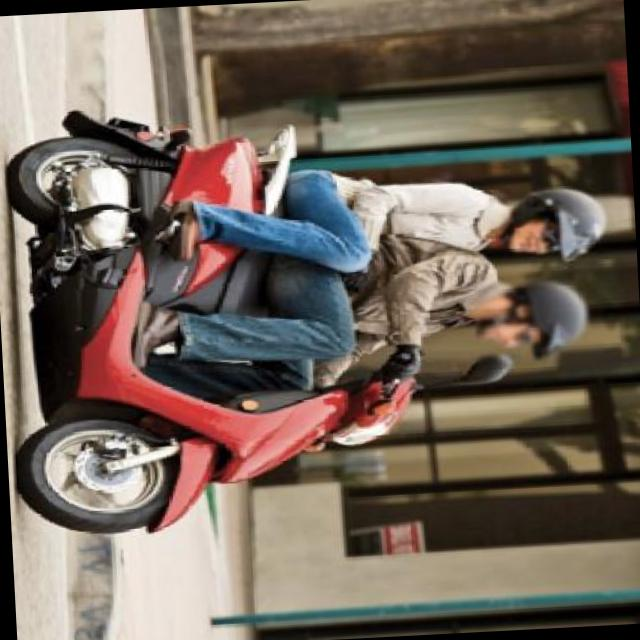With Helmet: (471, 275, 604, 370), (489, 183, 613, 265)
